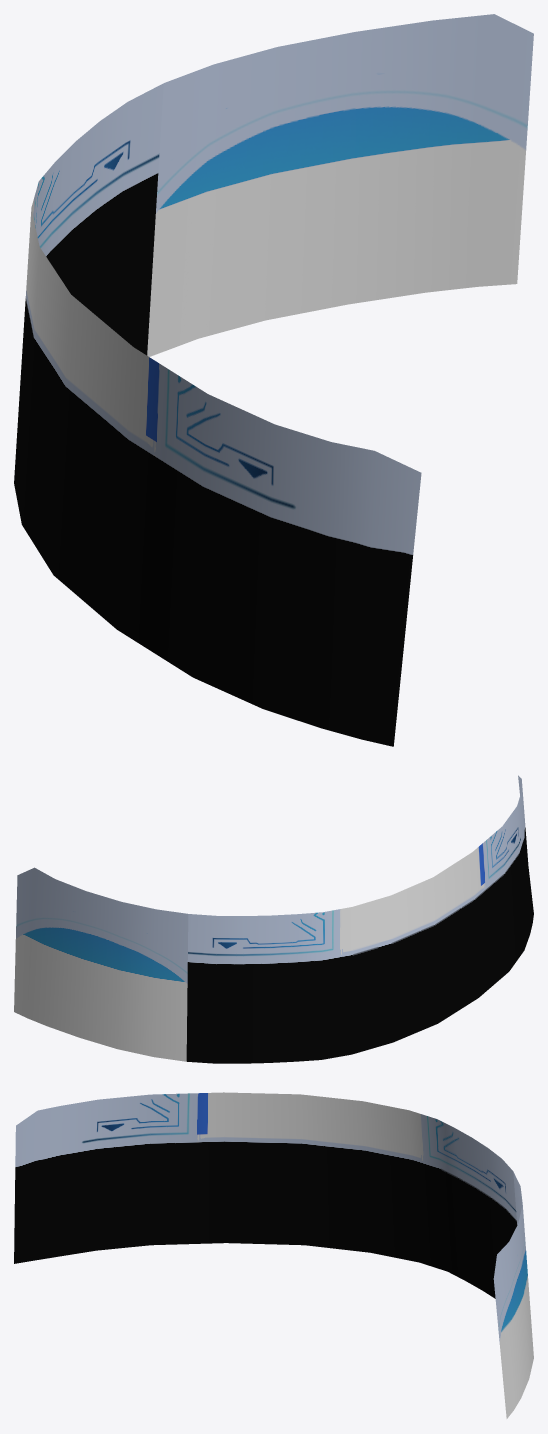
The model's file is GuardianMesh_Text.fbx.
The picture shows the model from 3 angles, top to bottom: view 1: azimuth 30°, elevation 25°; view 2: azimuth 150°, elevation 25°; view 3: azimuth 270°, elevation 25°; orthographic projection. The views are drawn at different scales.
Parts seen in each view (by area): view 1: VR_Guide_Arrow_1, VR_Guide_Arrow_2; view 2: VR_Guide_Arrow_1, VR_Guide_Arrow_2; view 3: VR_Guide_Arrow_1, VR_Guide_Arrow_2.
Boxes of the visible parts, x1=… form: VR_Guide_Arrow_1: x1=14, y1=83, x2=421, y2=746; VR_Guide_Arrow_2: x1=147, y1=14, x2=533, y2=356; VR_Guide_Arrow_1: x1=186, y1=775, x2=533, y2=1063; VR_Guide_Arrow_2: x1=14, y1=867, x2=188, y2=1061; VR_Guide_Arrow_1: x1=14, y1=1092, x2=517, y2=1298; VR_Guide_Arrow_2: x1=493, y1=1172, x2=533, y2=1418.
Size of the model in its own units: 7.51 by 3.09 by 9.3.
